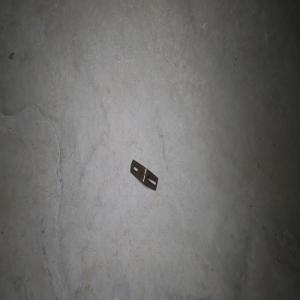MetalPart: (129, 158, 158, 191)
